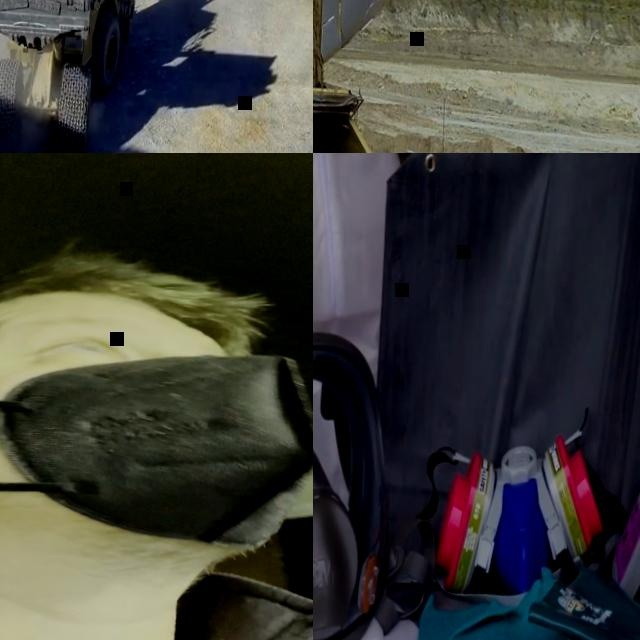Mask: (0, 333, 313, 558), (432, 427, 611, 602), (313, 329, 399, 640), (605, 450, 640, 636)
NO-Hardhat: (0, 235, 230, 343)
Person: (0, 229, 313, 640)
machinery: (313, 38, 605, 153), (0, 0, 141, 153)
